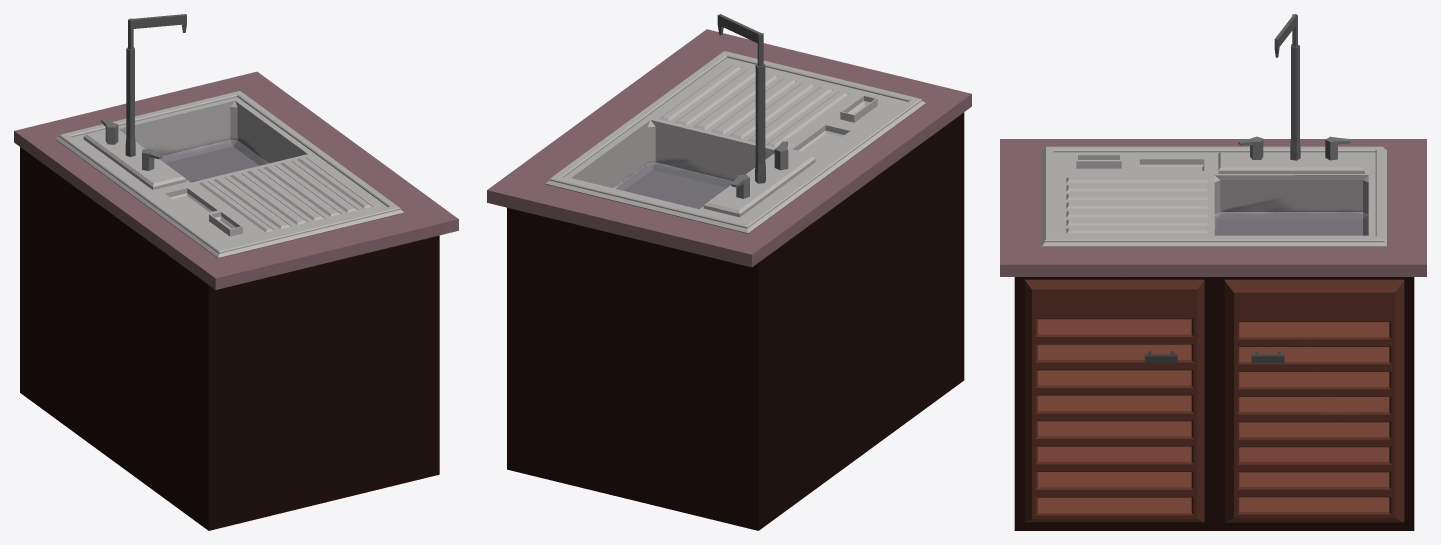
Rendered from Kitchen_sink.fbx.
3 views of the same model, side by side, from view 1: azimuth 30°, elevation 25°; view 2: azimuth 150°, elevation 25°; view 3: azimuth 270°, elevation 25° (orthographic). The views are drawn at different scales.
Visible parts, largest first — view 1: Cube, Cylinder.002; view 2: Cube, Cylinder.002; view 3: Cube, Cylinder.002.
Boxes of the visible parts, left/top/right/bottom form: Cube: left=14, top=71, right=458, bottom=530; Cylinder.002: left=125, top=14, right=186, bottom=156; Cube: left=487, top=29, right=971, bottom=530; Cylinder.002: left=717, top=14, right=765, bottom=183; Cube: left=1000, top=139, right=1426, bottom=530; Cylinder.002: left=1274, top=14, right=1300, bottom=160.
Size of the model in its own units: 212 by 322 by 294.
